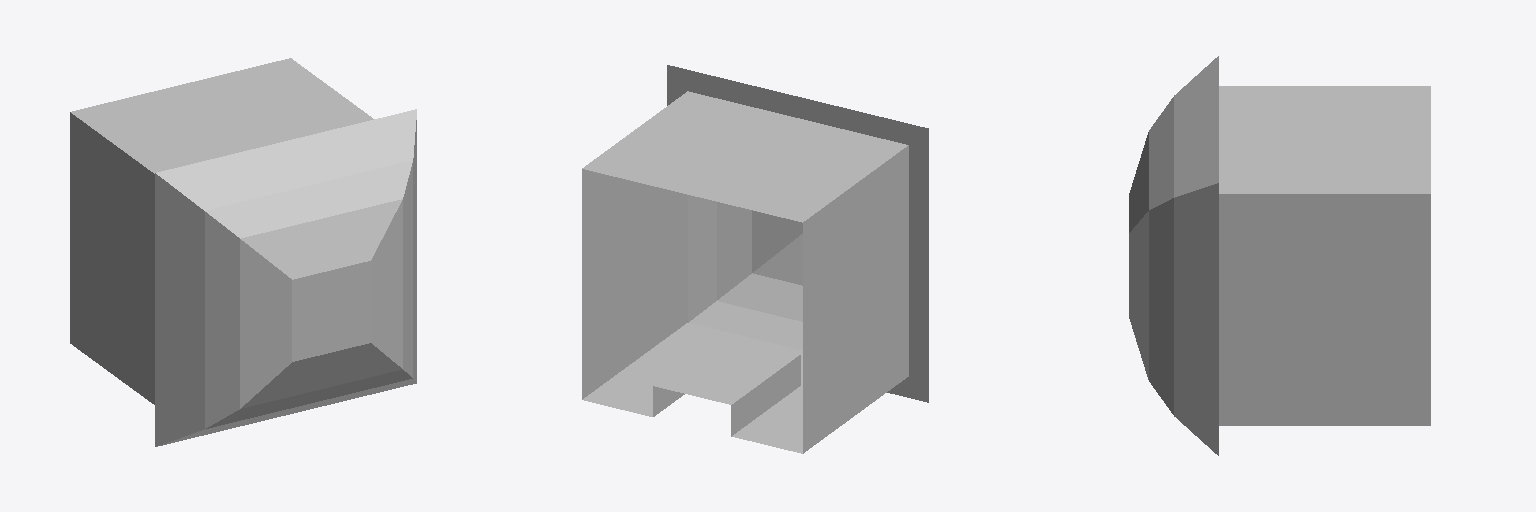
The model's file is skathian_house.obj.
3 views of the same model, side by side, from view 1: azimuth 30°, elevation 25°; view 2: azimuth 150°, elevation 25°; view 3: azimuth 270°, elevation 25° (orthographic).
Visible parts, largest first — view 1: Plane.004; view 2: Plane.004; view 3: Plane.004.
Boxes of the visible parts, x1=… form: Plane.004: x1=70, y1=58, x2=416, y2=446; Plane.004: x1=582, y1=65, x2=928, y2=453; Plane.004: x1=1129, y1=56, x2=1430, y2=455.
Size of the model in its own units: 2 by 2 by 2.